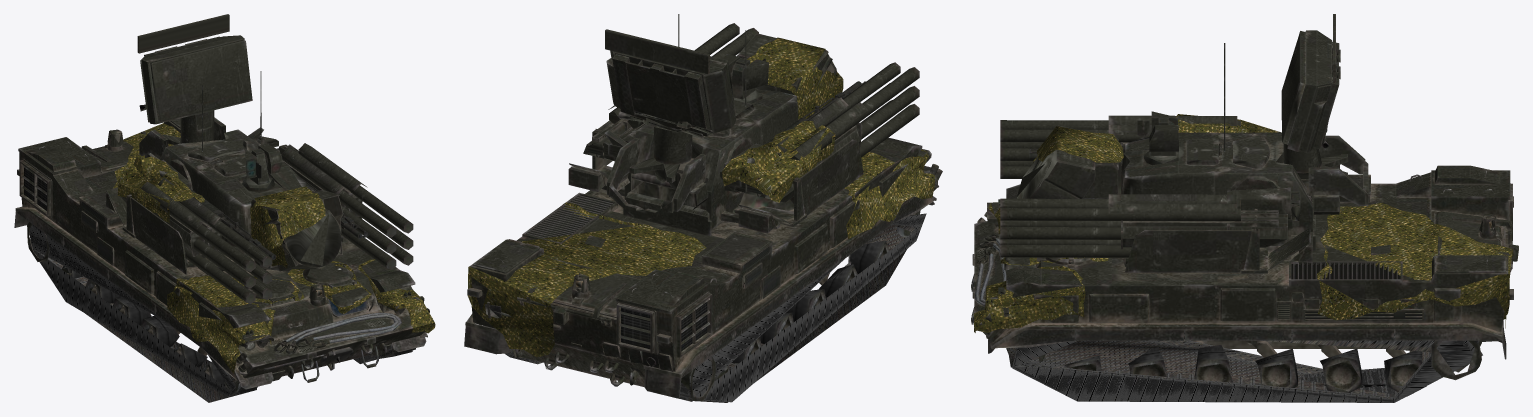
Rendered from pantsir_lo.glb.
The picture shows the model from 3 angles, left to right: view 1: azimuth 30°, elevation 25°; view 2: azimuth 150°, elevation 25°; view 3: azimuth 270°, elevation 25°; orthographic projection. The views are drawn at different scales.
Parts seen in each view (by area): view 1: Sketchfab_Scene_Object_2, Sketchfab_Scene_Object_0, Sketchfab_Scene_Object_1, Sketchfab_Scene_Object_5, Sketchfab_Scene_Object_4, Sketchfab_Scene_Object_3; view 2: Sketchfab_Scene_Object_2, Sketchfab_Scene_Object_0, Sketchfab_Scene_Object_5, Sketchfab_Scene_Object_1, Sketchfab_Scene_Object_4, Sketchfab_Scene_Object_3; view 3: Sketchfab_Scene_Object_2, Sketchfab_Scene_Object_0, Sketchfab_Scene_Object_1, Sketchfab_Scene_Object_5, Sketchfab_Scene_Object_4, Sketchfab_Scene_Object_3.
Boxes of the visible parts, <box> form: Sketchfab_Scene_Object_2: <box>15,118,432,383</box>; Sketchfab_Scene_Object_0: <box>106,14,362,392</box>; Sketchfab_Scene_Object_1: <box>27,85,413,380</box>; Sketchfab_Scene_Object_5: <box>113,123,435,373</box>; Sketchfab_Scene_Object_4: <box>29,224,415,402</box>; Sketchfab_Scene_Object_3: <box>14,183,426,389</box>; Sketchfab_Scene_Object_2: <box>465,137,942,386</box>; Sketchfab_Scene_Object_0: <box>479,14,920,357</box>; Sketchfab_Scene_Object_5: <box>467,37,934,357</box>; Sketchfab_Scene_Object_1: <box>583,23,934,401</box>; Sketchfab_Scene_Object_4: <box>483,213,926,402</box>; Sketchfab_Scene_Object_3: <box>464,81,934,398</box>; Sketchfab_Scene_Object_2: <box>971,165,1518,357</box>; Sketchfab_Scene_Object_0: <box>1006,14,1481,396</box>; Sketchfab_Scene_Object_1: <box>1000,43,1300,257</box>; Sketchfab_Scene_Object_5: <box>973,114,1513,332</box>; Sketchfab_Scene_Object_4: <box>1007,329,1482,402</box>; Sketchfab_Scene_Object_3: <box>988,145,1506,359</box>.
Size of the model in its own units: 5.13 by 6.97 by 11.
Materials: 3 (3 with a texture image).
